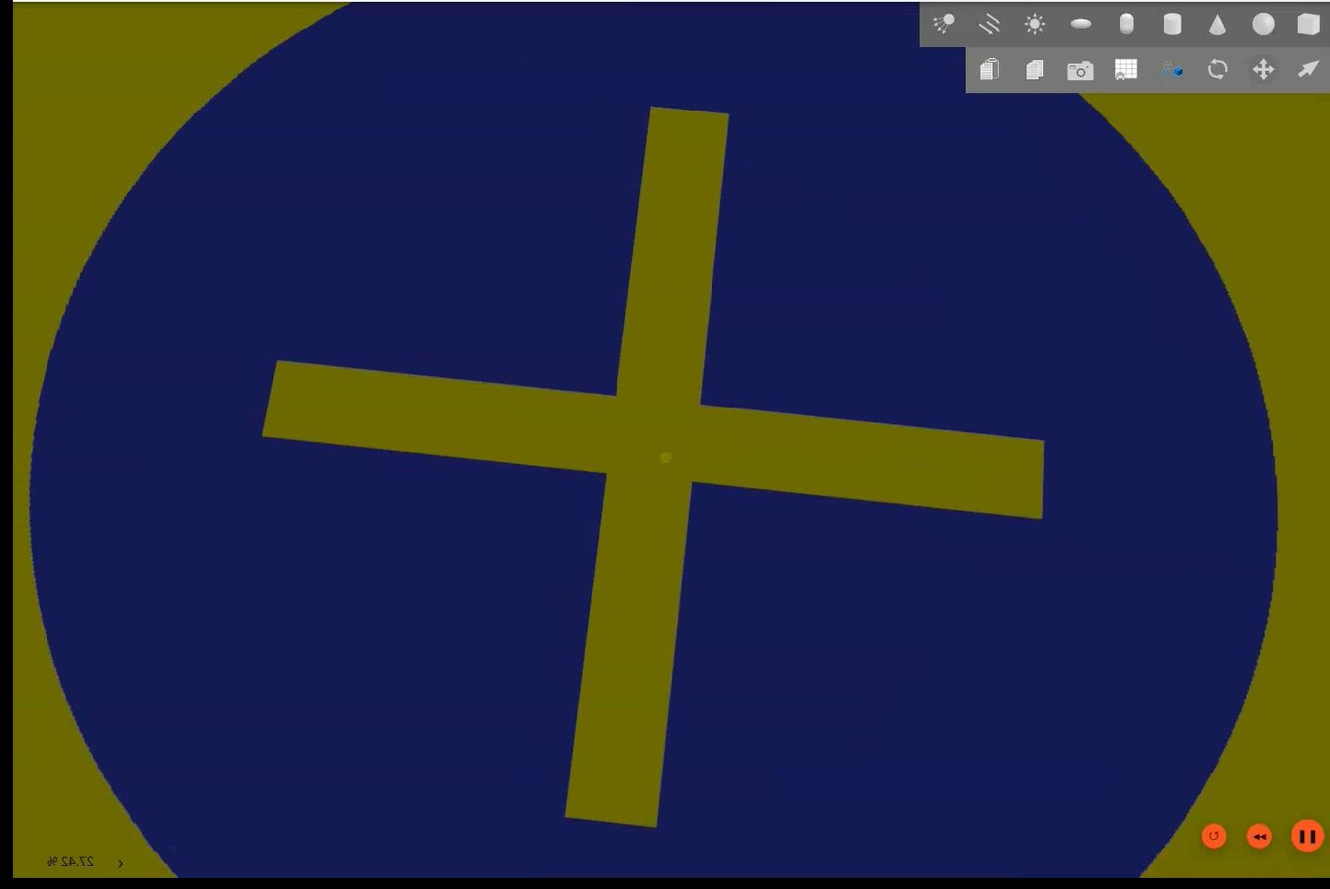large_base: (9, 6, 1328, 880)
